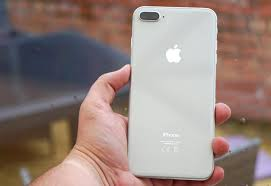iphone: (126, 1, 218, 180)
iphone8: (126, 3, 218, 182)
